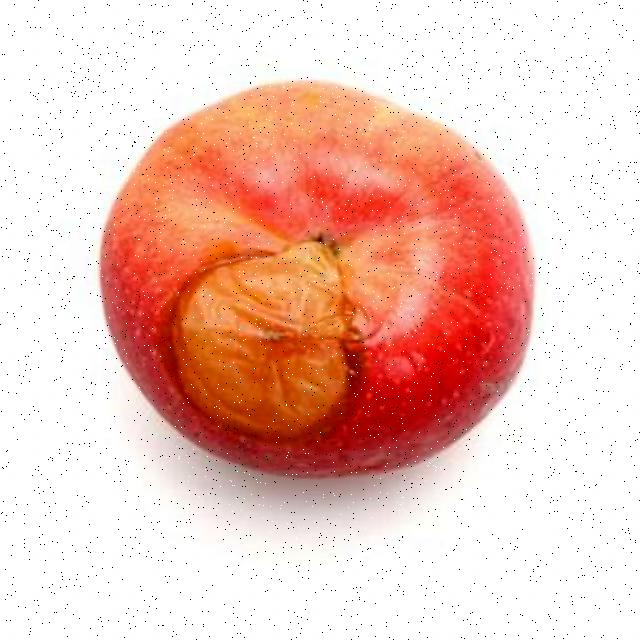ROT: (76, 64, 572, 514)
